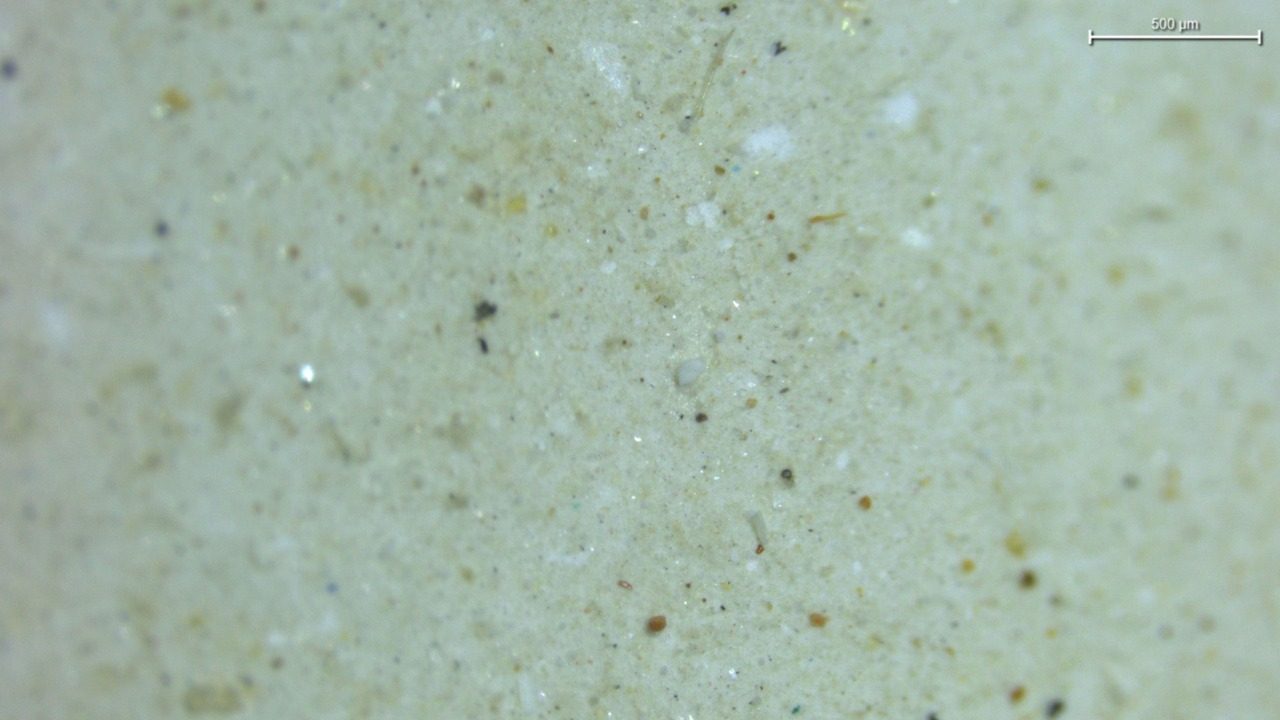microplastic_fragment: (676, 360, 705, 386)
